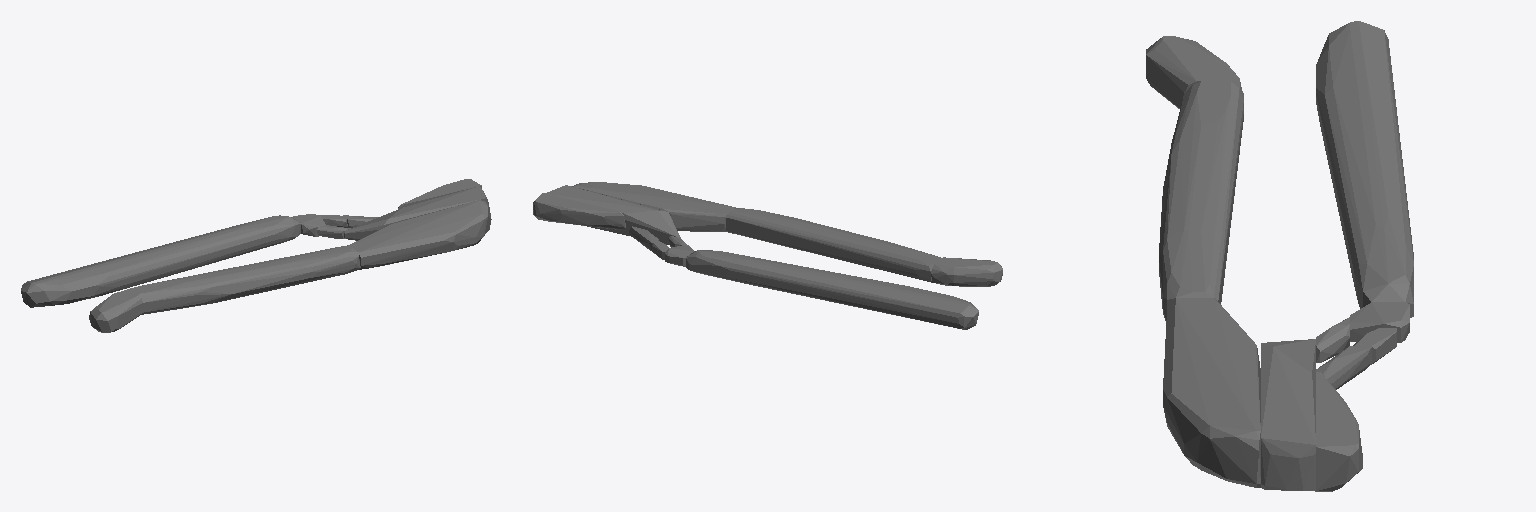
robot.urdf — pliers_014:
<?xml version="1.0" ?>
<robot name="pliers_014">
  <material name="color">
    <color rgba=".5 .5 .5 1"/>
  </material>

  <link name="base_link">
    <contact>
      <lateral_friction value="1.0"/>
      <rolling_friction value="0.001"/>
      <spinning_friction value="0.001"/>
      <inertia_scaling value="1.0"/>
    </contact>
    <inertial>
      <origin rpy="0 0 0" xyz="0.00508377 -0.000923648 0.00047401"/>
       <mass value="0.1"/>
       <inertia ixx="1" ixy="0" ixz="0" iyy="1" iyz="0" izz="1"/>
    </inertial>

    <visual>
      <origin rpy="0 0 0" xyz="0 0 0"/>
      <geometry>
        <mesh filename="pliers_014_vhacd_0_of_10.obj" scale="1 1 1"/>
      </geometry>
      <material name="color"/>
    </visual>
    <visual>
      <origin rpy="0 0 0" xyz="0 0 0"/>
      <geometry>
        <mesh filename="pliers_014_vhacd_1_of_10.obj" scale="1 1 1"/>
      </geometry>
      <material name="color"/>
    </visual>
    <visual>
      <origin rpy="0 0 0" xyz="0 0 0"/>
      <geometry>
        <mesh filename="pliers_014_vhacd_2_of_10.obj" scale="1 1 1"/>
      </geometry>
      <material name="color"/>
    </visual>
    <visual>
      <origin rpy="0 0 0" xyz="0 0 0"/>
      <geometry>
        <mesh filename="pliers_014_vhacd_3_of_10.obj" scale="1 1 1"/>
      </geometry>
      <material name="color"/>
    </visual>
    <visual>
      <origin rpy="0 0 0" xyz="0 0 0"/>
      <geometry>
        <mesh filename="pliers_014_vhacd_4_of_10.obj" scale="1 1 1"/>
      </geometry>
      <material name="color"/>
    </visual>
    <visual>
      <origin rpy="0 0 0" xyz="0 0 0"/>
      <geometry>
        <mesh filename="pliers_014_vhacd_5_of_10.obj" scale="1 1 1"/>
      </geometry>
      <material name="color"/>
    </visual>
    <visual>
      <origin rpy="0 0 0" xyz="0 0 0"/>
      <geometry>
        <mesh filename="pliers_014_vhacd_6_of_10.obj" scale="1 1 1"/>
      </geometry>
      <material name="color"/>
    </visual>
    <visual>
      <origin rpy="0 0 0" xyz="0 0 0"/>
      <geometry>
        <mesh filename="pliers_014_vhacd_7_of_10.obj" scale="1 1 1"/>
      </geometry>
      <material name="color"/>
    </visual>
    <visual>
      <origin rpy="0 0 0" xyz="0 0 0"/>
      <geometry>
        <mesh filename="pliers_014_vhacd_8_of_10.obj" scale="1 1 1"/>
      </geometry>
      <material name="color"/>
    </visual>
    <visual>
      <origin rpy="0 0 0" xyz="0 0 0"/>
      <geometry>
        <mesh filename="pliers_014_vhacd_9_of_10.obj" scale="1 1 1"/>
      </geometry>
      <material name="color"/>
    </visual>

    <collision>
      <origin rpy="0 0 0" xyz="0 0 0"/>
      <geometry>
        <mesh filename="pliers_014_vhacd_0_of_10.obj" scale="1 1 1"/>
      </geometry>
    </collision>
    <collision>
      <origin rpy="0 0 0" xyz="0 0 0"/>
      <geometry>
        <mesh filename="pliers_014_vhacd_1_of_10.obj" scale="1 1 1"/>
      </geometry>
    </collision>
    <collision>
      <origin rpy="0 0 0" xyz="0 0 0"/>
      <geometry>
        <mesh filename="pliers_014_vhacd_2_of_10.obj" scale="1 1 1"/>
      </geometry>
    </collision>
    <collision>
      <origin rpy="0 0 0" xyz="0 0 0"/>
      <geometry>
        <mesh filename="pliers_014_vhacd_3_of_10.obj" scale="1 1 1"/>
      </geometry>
    </collision>
    <collision>
      <origin rpy="0 0 0" xyz="0 0 0"/>
      <geometry>
        <mesh filename="pliers_014_vhacd_4_of_10.obj" scale="1 1 1"/>
      </geometry>
    </collision>
    <collision>
      <origin rpy="0 0 0" xyz="0 0 0"/>
      <geometry>
        <mesh filename="pliers_014_vhacd_5_of_10.obj" scale="1 1 1"/>
      </geometry>
    </collision>
    <collision>
      <origin rpy="0 0 0" xyz="0 0 0"/>
      <geometry>
        <mesh filename="pliers_014_vhacd_6_of_10.obj" scale="1 1 1"/>
      </geometry>
    </collision>
    <collision>
      <origin rpy="0 0 0" xyz="0 0 0"/>
      <geometry>
        <mesh filename="pliers_014_vhacd_7_of_10.obj" scale="1 1 1"/>
      </geometry>
    </collision>
    <collision>
      <origin rpy="0 0 0" xyz="0 0 0"/>
      <geometry>
        <mesh filename="pliers_014_vhacd_8_of_10.obj" scale="1 1 1"/>
      </geometry>
    </collision>
    <collision>
      <origin rpy="0 0 0" xyz="0 0 0"/>
      <geometry>
        <mesh filename="pliers_014_vhacd_9_of_10.obj" scale="1 1 1"/>
      </geometry>
    </collision>

  </link>
</robot>

--- Render facts (derived) ---
The picture shows the robot from 3 angles, left to right: view 1: azimuth 30°, elevation 25°; view 2: azimuth 150°, elevation 25°; view 3: azimuth 270°, elevation 25°; orthographic projection.
Robot: pliers_014 — 1 links, 0 joints (none); root link base_link; default pose: every joint at zero.
Visible links, largest first — view 1: base_link; view 2: base_link; view 3: base_link.
Link boxes in pixels (x1,y1,x2,y2): base_link: [21, 179, 491, 332]; base_link: [533, 182, 1002, 329]; base_link: [1146, 21, 1413, 491].
Size in the robot's own frame: 0.1801 by 0.0473 by 0.012 metres.
Meshes: 10 distinct files referenced, 10 mesh visuals loaded (10 OBJ).